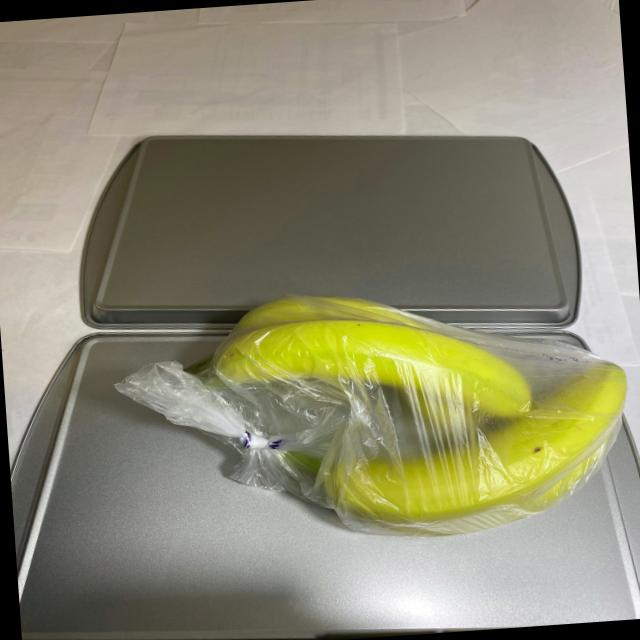banana: (168, 268, 630, 560)
